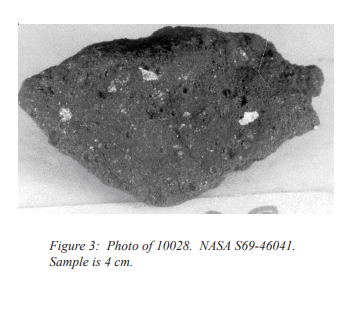Breccia: (17, 21, 331, 211)
